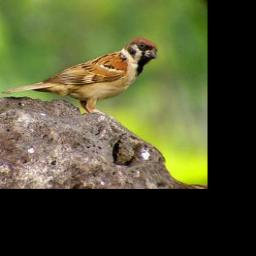Sparrow: (0, 34, 164, 118)
